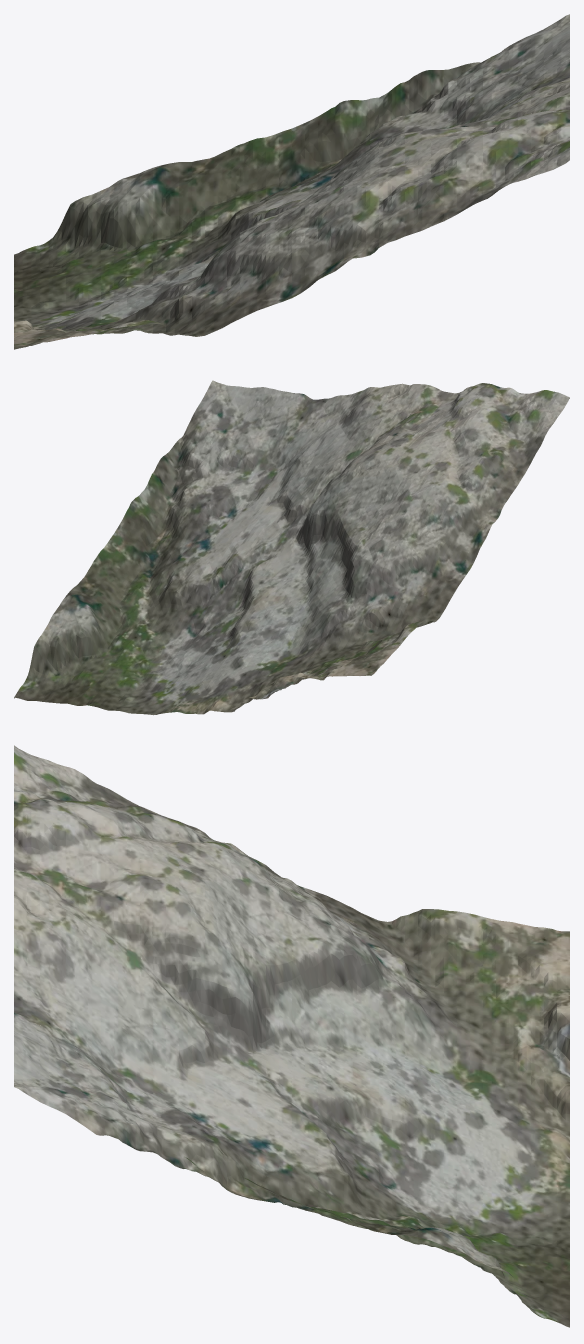
3 renders of one model, top to bottom at view 1: azimuth 90°, elevation 25°; view 2: azimuth 150°, elevation 25°; view 3: azimuth 270°, elevation 25°, orthographic. The views are drawn at different scales.
Size of the model in its own units: 250 by 164 by 241.
Materials: 1 (1 with a texture image).
